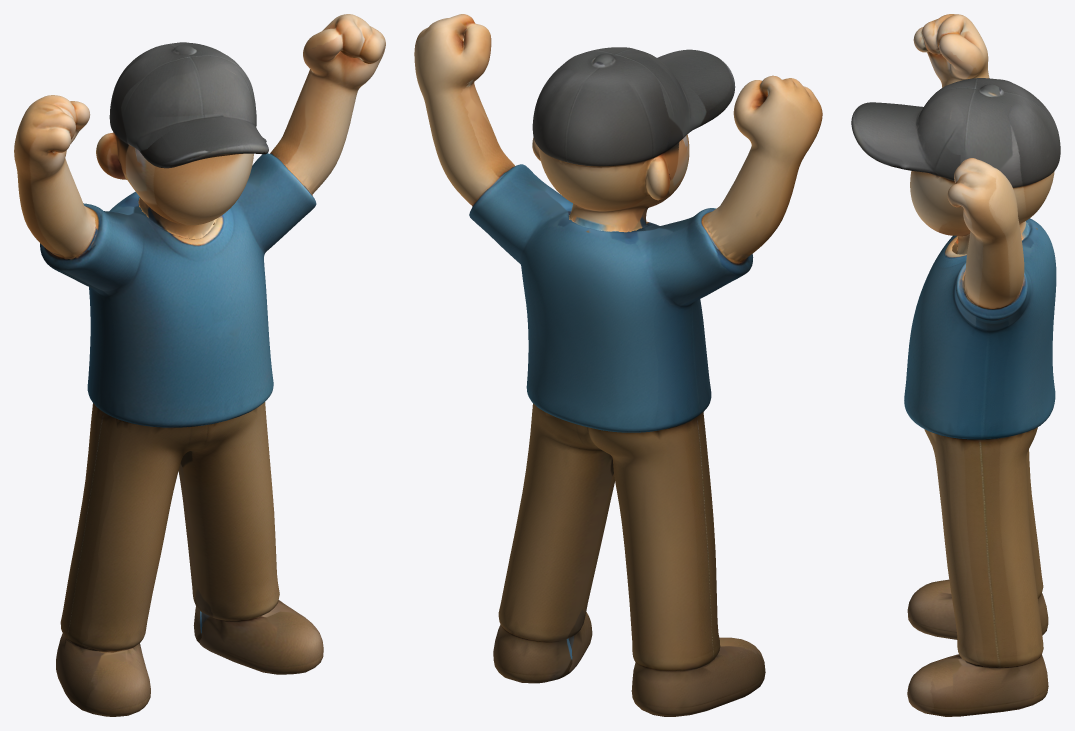
The model's file is Spect_1Mesh.fbx.
The picture shows the model from 3 angles, left to right: view 1: azimuth 30°, elevation 25°; view 2: azimuth 150°, elevation 25°; view 3: azimuth 270°, elevation 25°; orthographic projection. The views are drawn at different scales.
Parts seen in each view (by area): view 1: Human Figure; view 2: Human Figure; view 3: Human Figure.
Part boxes in pixels (x1,y1,x2,y2): Human Figure: (14,14,385,716); Human Figure: (414,14,822,716); Human Figure: (851,14,1060,716).
Bounding box in the file's own units: 64.52 × 100 × 32.55.
